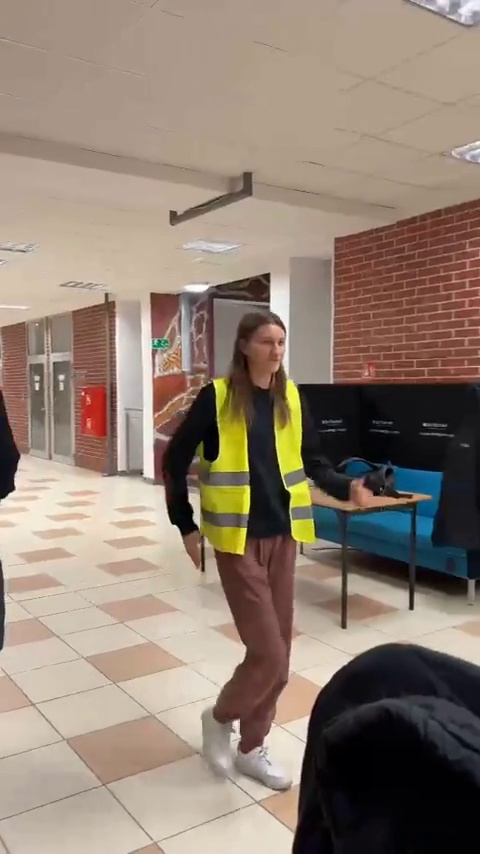vest: (163, 308, 366, 795)
